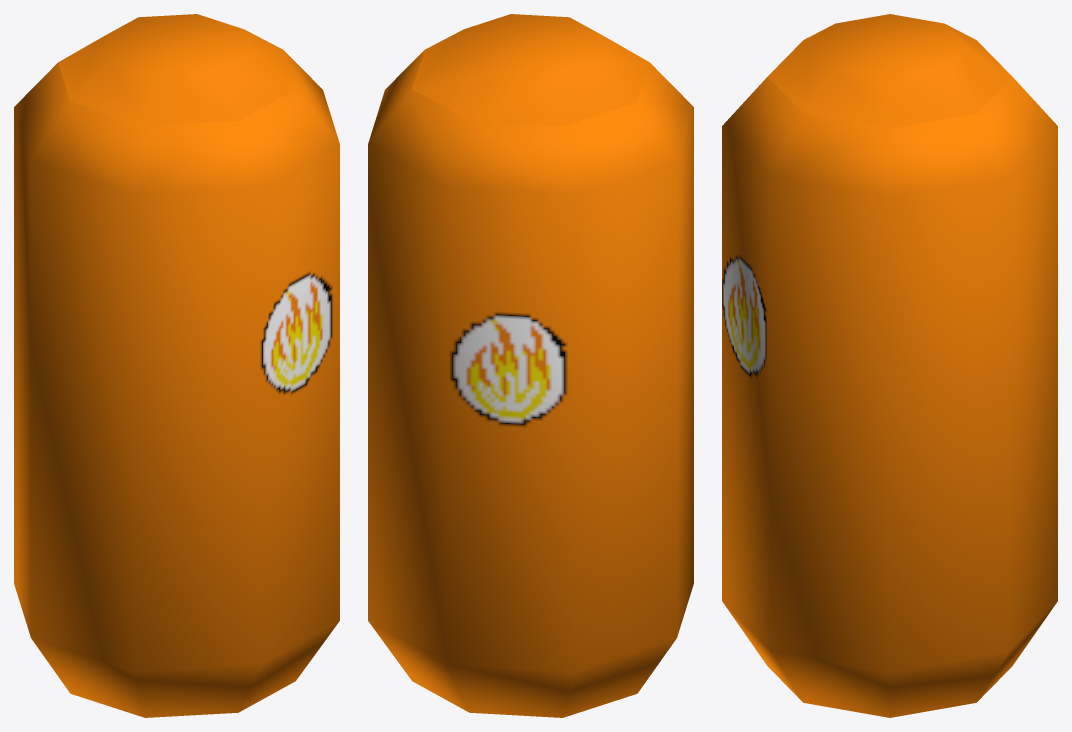
File: fueltank.glb
3 renders of one model, left to right at view 1: azimuth 30°, elevation 25°; view 2: azimuth 150°, elevation 25°; view 3: azimuth 270°, elevation 25°, orthographic.
Parts seen in each view (by area): view 1: Cylinder; view 2: Cylinder; view 3: Cylinder.
Part boxes in pixels (left/top/right/bottom): Cylinder: left=14, top=14, right=339, bottom=717; Cylinder: left=368, top=14, right=693, bottom=717; Cylinder: left=722, top=14, right=1057, bottom=717.
Size of the model in its own units: 0.2 by 0.4072 by 0.2.
Materials: 1 (1 with a texture image).
